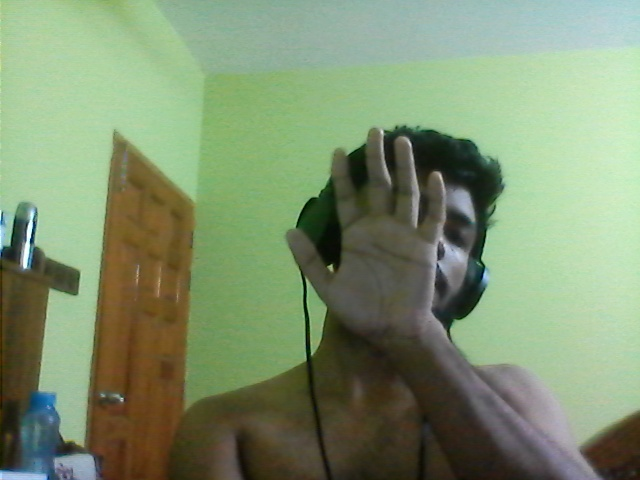Hello: (288, 125, 464, 344)
